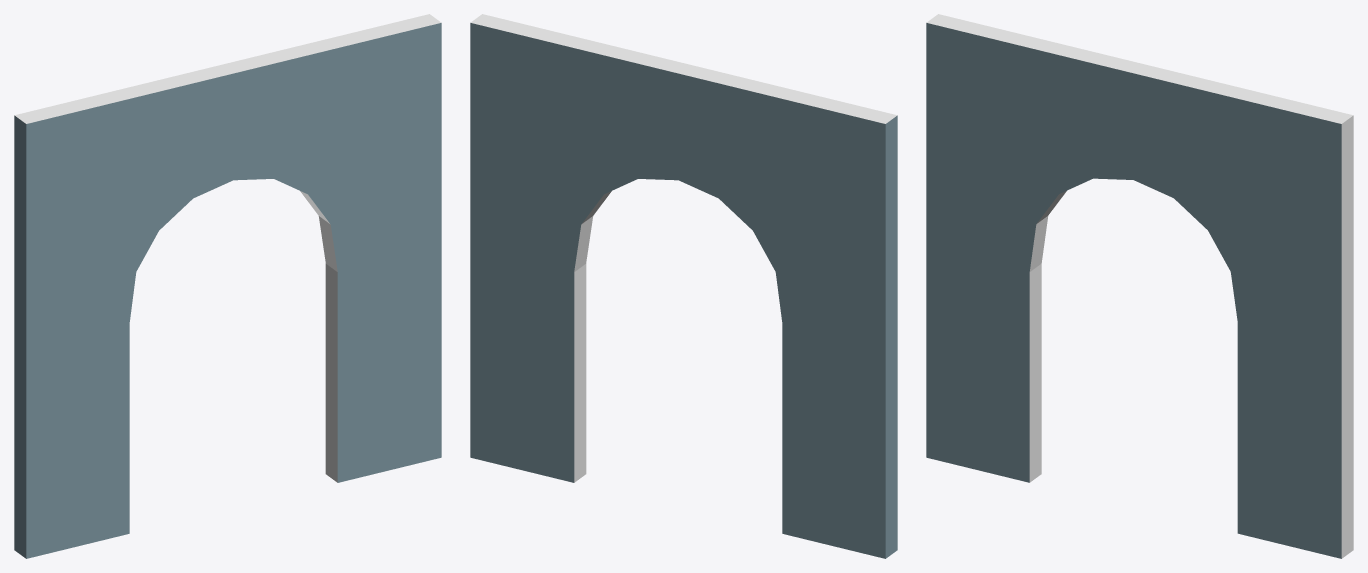
Rendered from Walls_107.glb.
3 views of the same model, side by side, from view 1: azimuth 30°, elevation 25°; view 2: azimuth 150°, elevation 25°; view 3: azimuth 330°, elevation 25° (orthographic).
Parts seen in each view (by area): view 1: Walls_107; view 2: Walls_107; view 3: Walls_107.
Part boxes in pixels (bbox=[...]): Walls_107: bbox=[14, 14, 441, 558]; Walls_107: bbox=[470, 14, 897, 558]; Walls_107: bbox=[926, 14, 1353, 558].
Bounding box in the file's own units: 4 × 4 × 0.2.
1 material, 1 textured.
